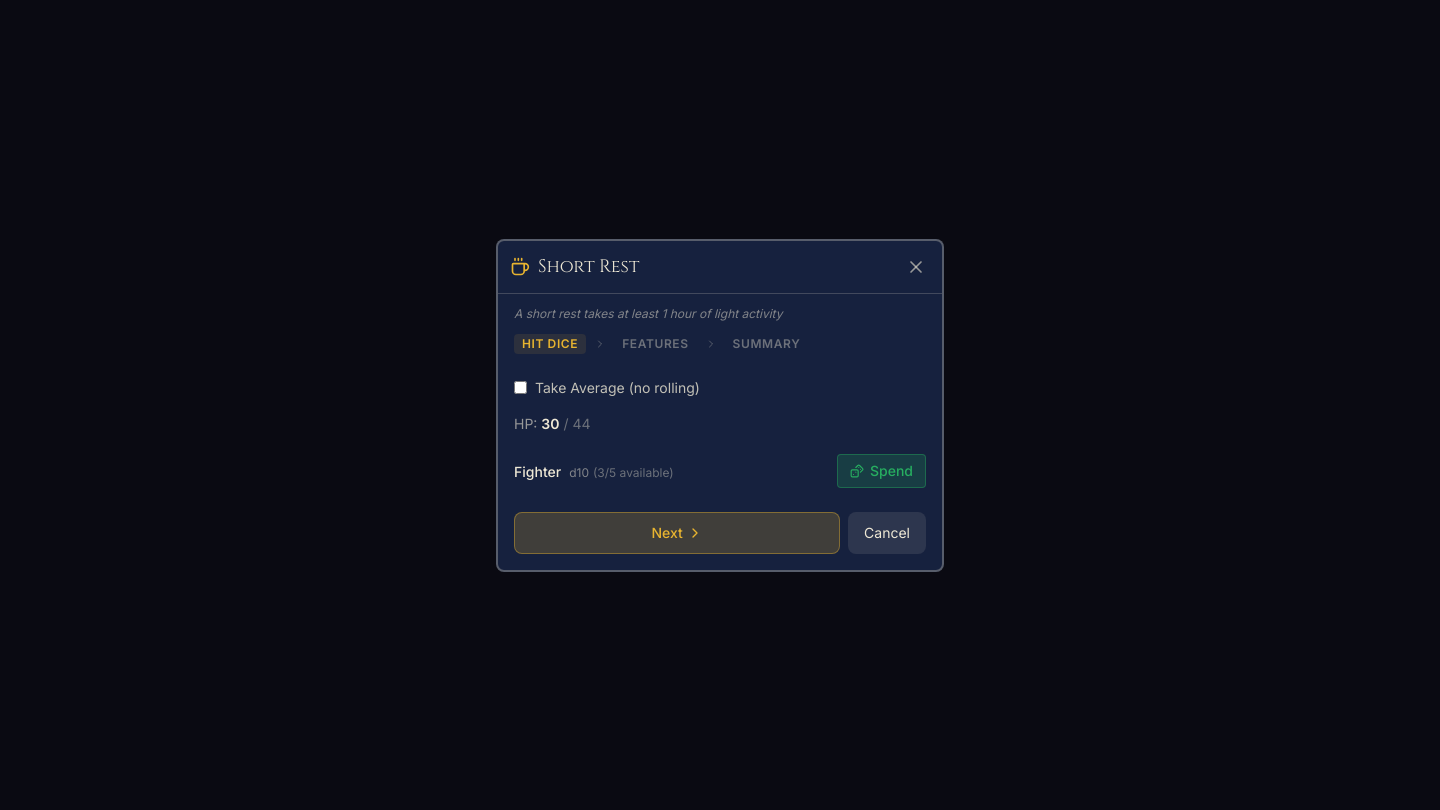
ShortRestModal › navigates through steps with Next and Back buttons
The image size is (1440, 810).
expect the element with test id "step-hit-dice" is shown: met, box [514,378,926,496]
# Go to step 2
What coordinates should you click on to do the following:
click the button with test id "step-next-button"
I would click on:
 (677, 532)
Its box is [514,512,840,554].
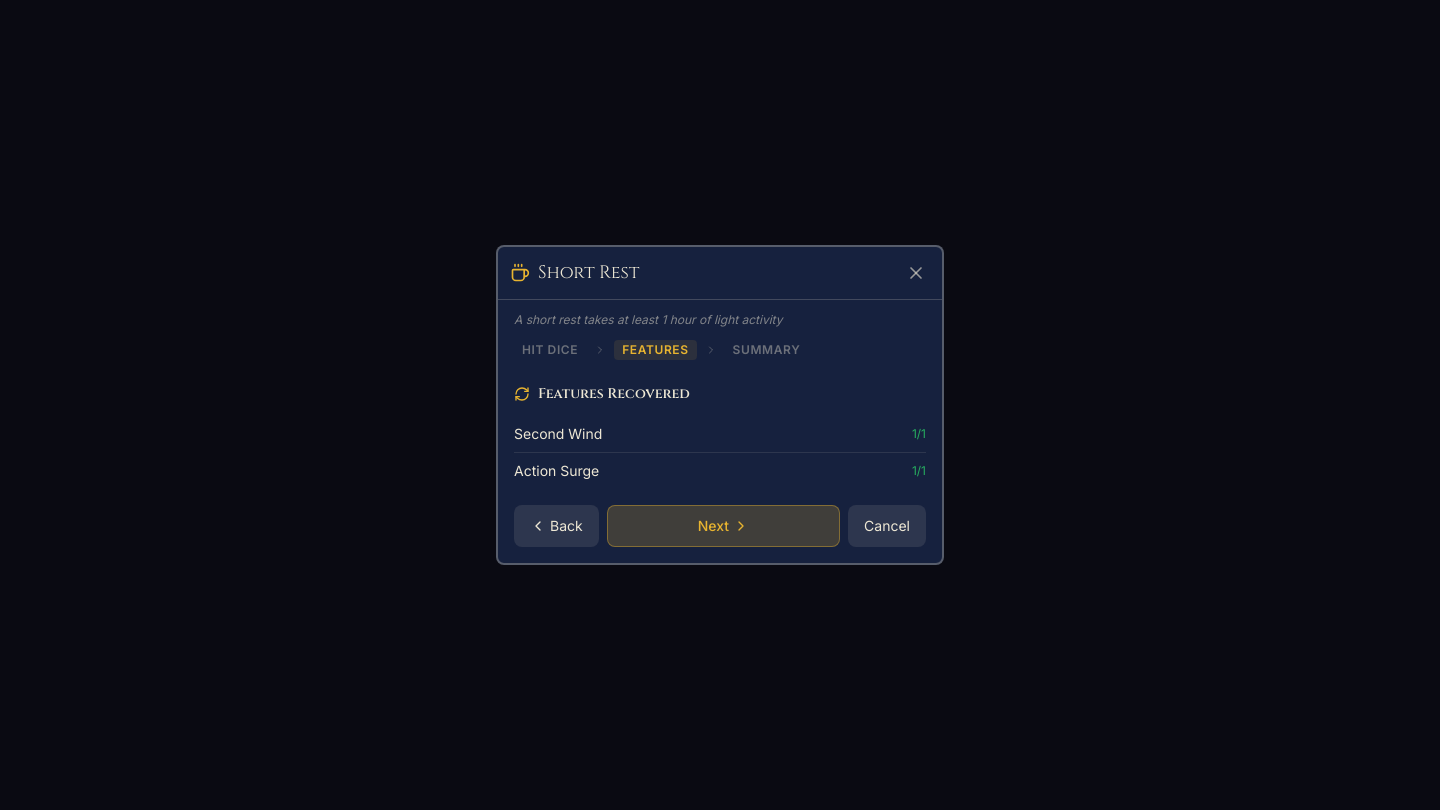
expect the element with test id "step-features" is shown: met, box [514,384,926,489]
# Go to step 3
What coordinates should you click on to do the following:
click the button with test id "step-next-button"
I would click on:
 (723, 526)
Its box is [607,505,840,547].
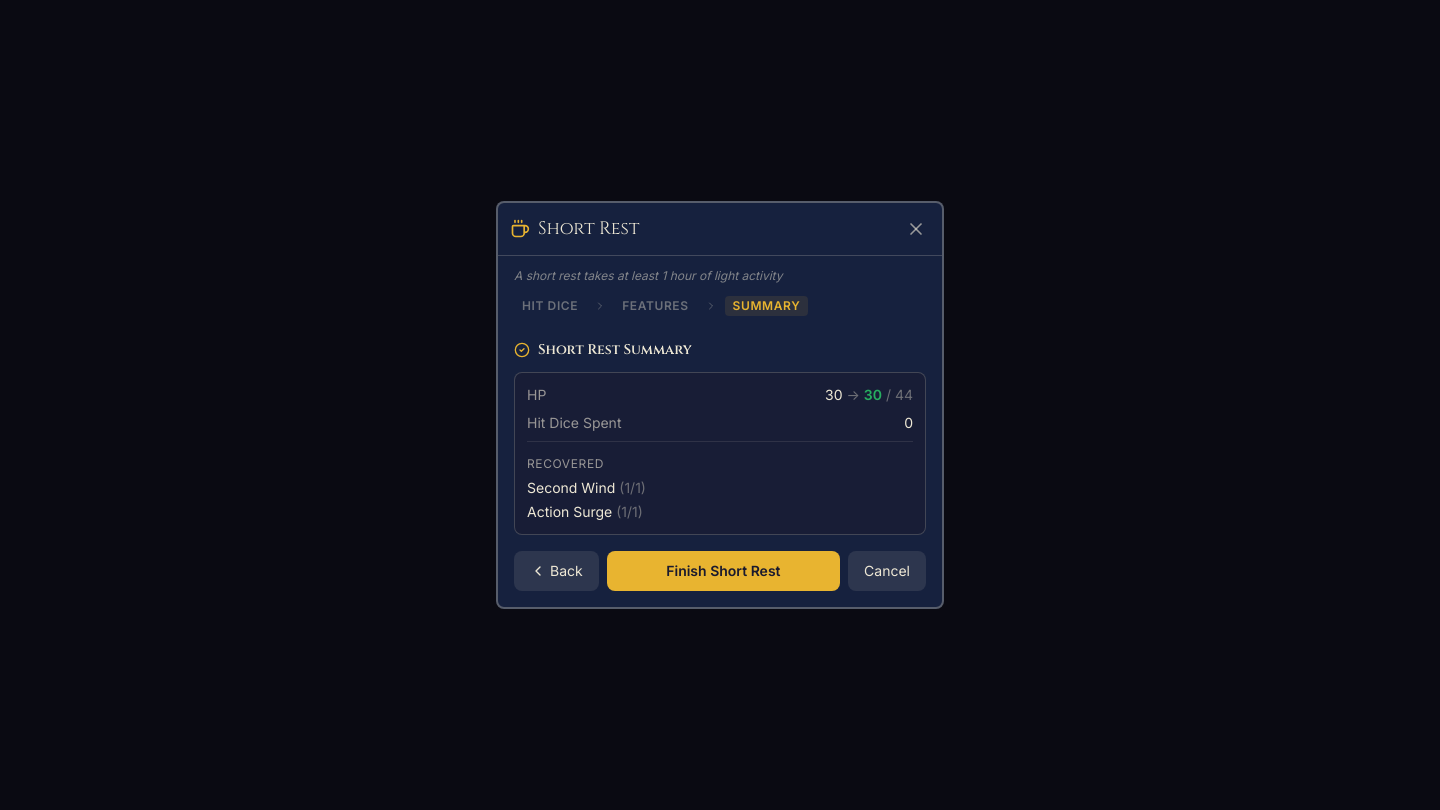
expect the element with test id "step-summary" is shown: met, box [514,340,926,535]
# Go back to step 2
What coordinates should you click on to do the following:
click the button with test id "step-back-button"
I would click on:
 (556, 571)
Its box is [514,551,599,591].
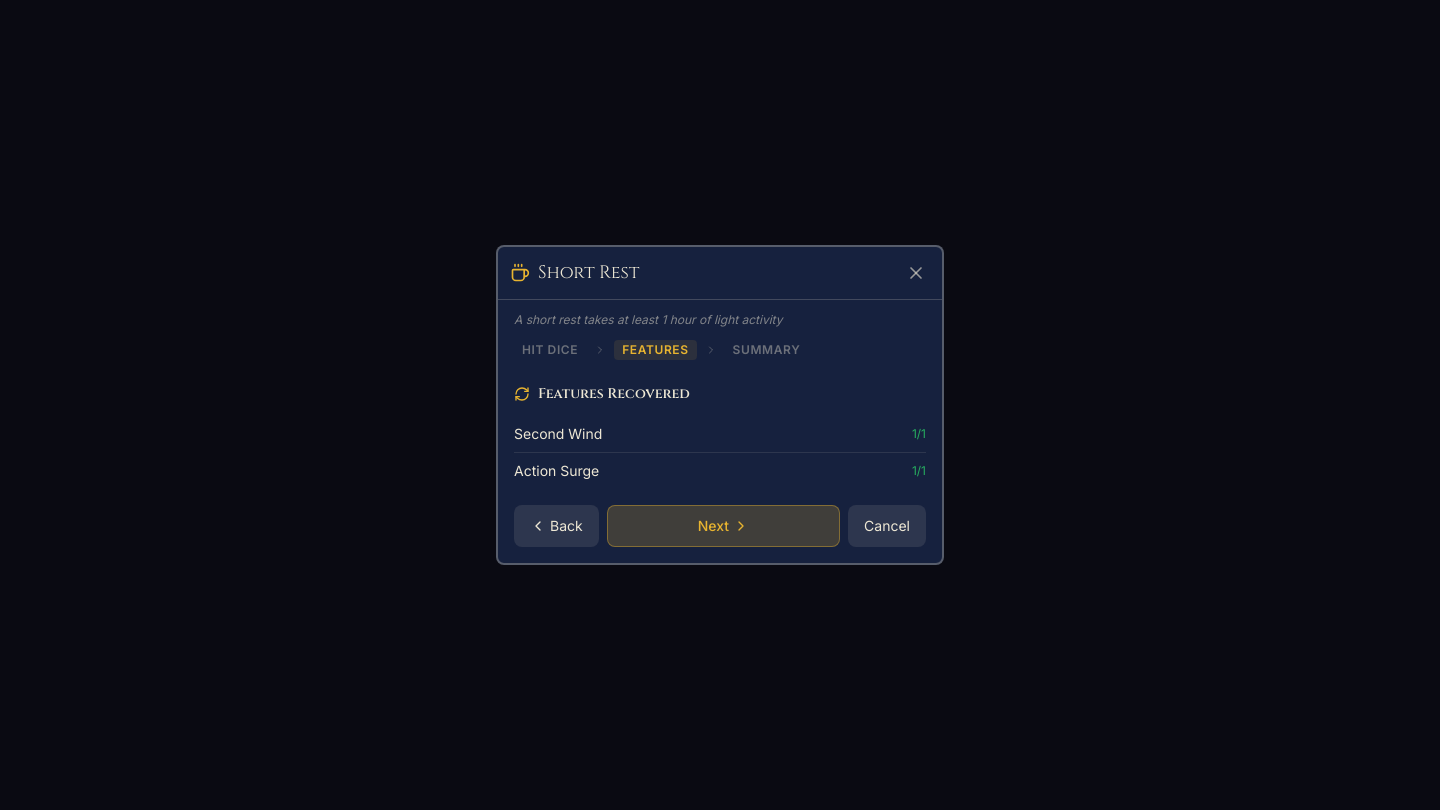
expect the element with test id "step-features" is shown: met, box [514,384,926,489]
